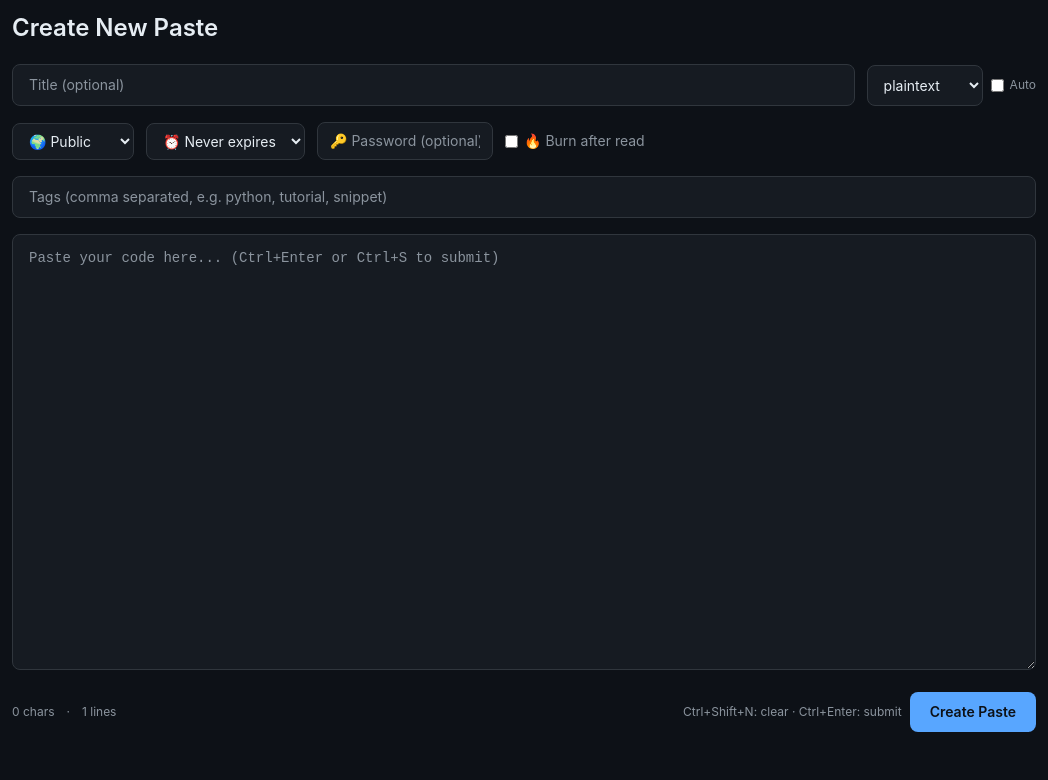
Test: CreatePaste › validates password minimum length
In the text box named "paste content": (524, 452) [12, 234, 1036, 670], type "test content"
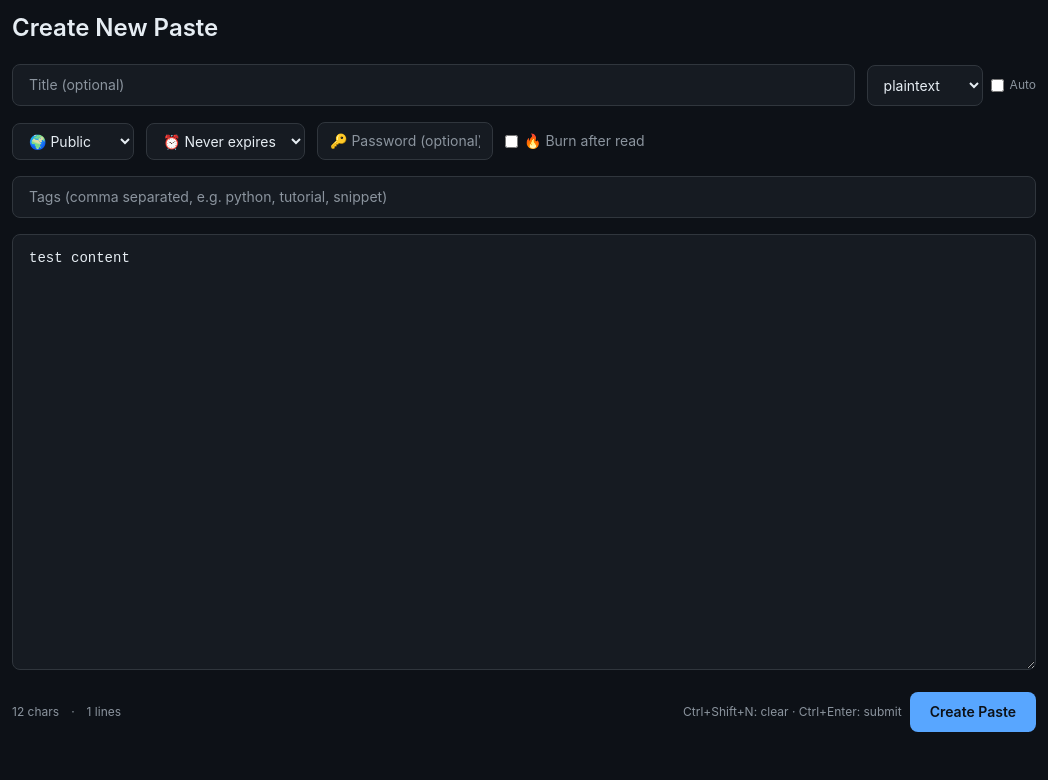
In the password field labelled "🔑 Password (optional)": (405, 141) [317, 122, 493, 160], type "ab"
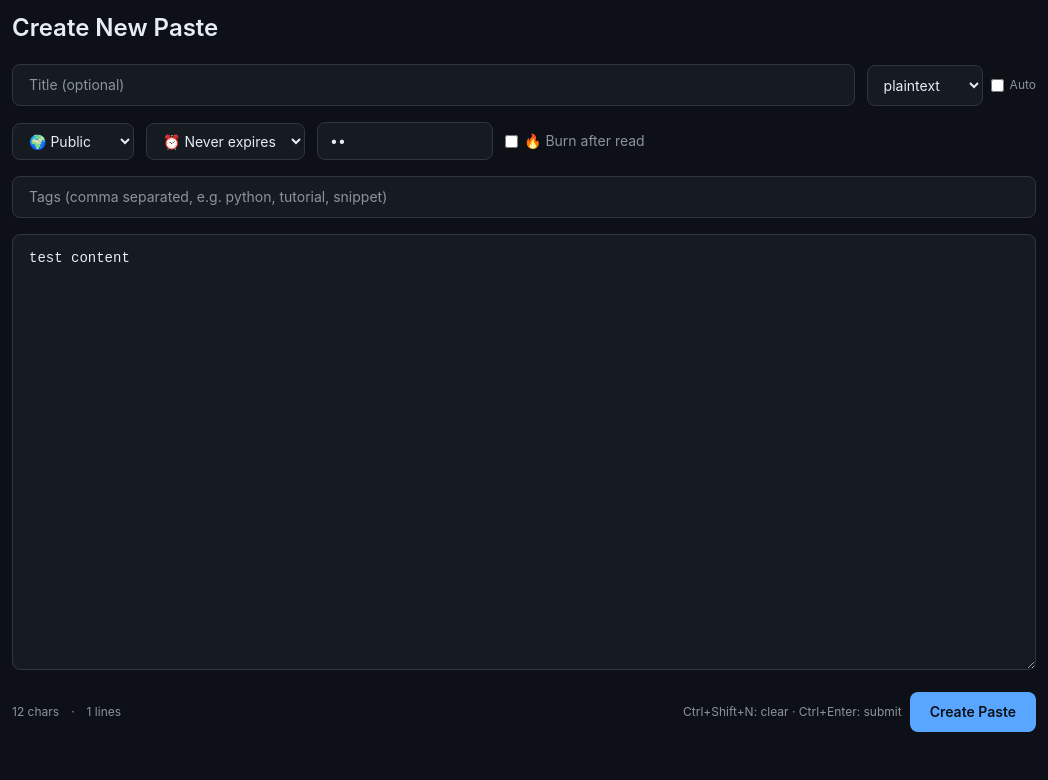
Click the button "Create Paste": click(973, 712) [910, 692, 1036, 732]
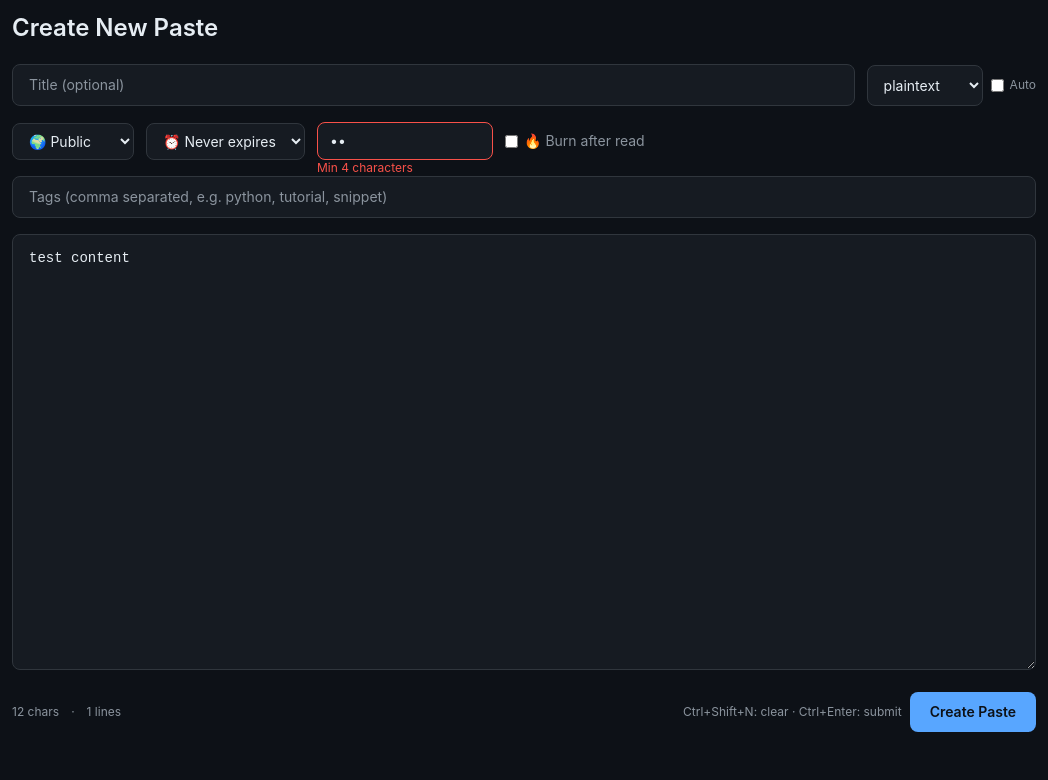
expect the text "Min 4 characters" is shown: met, box [317, 160, 413, 176]
